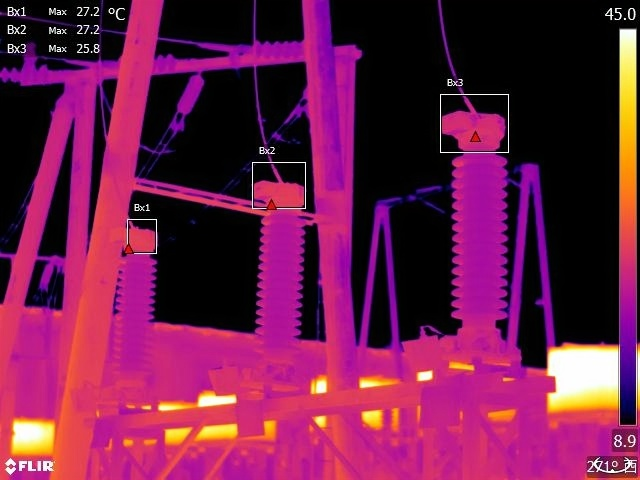insulator: (172, 69, 211, 122)
lightning arrester: (439, 104, 521, 359), (248, 171, 313, 388), (106, 220, 162, 400)
